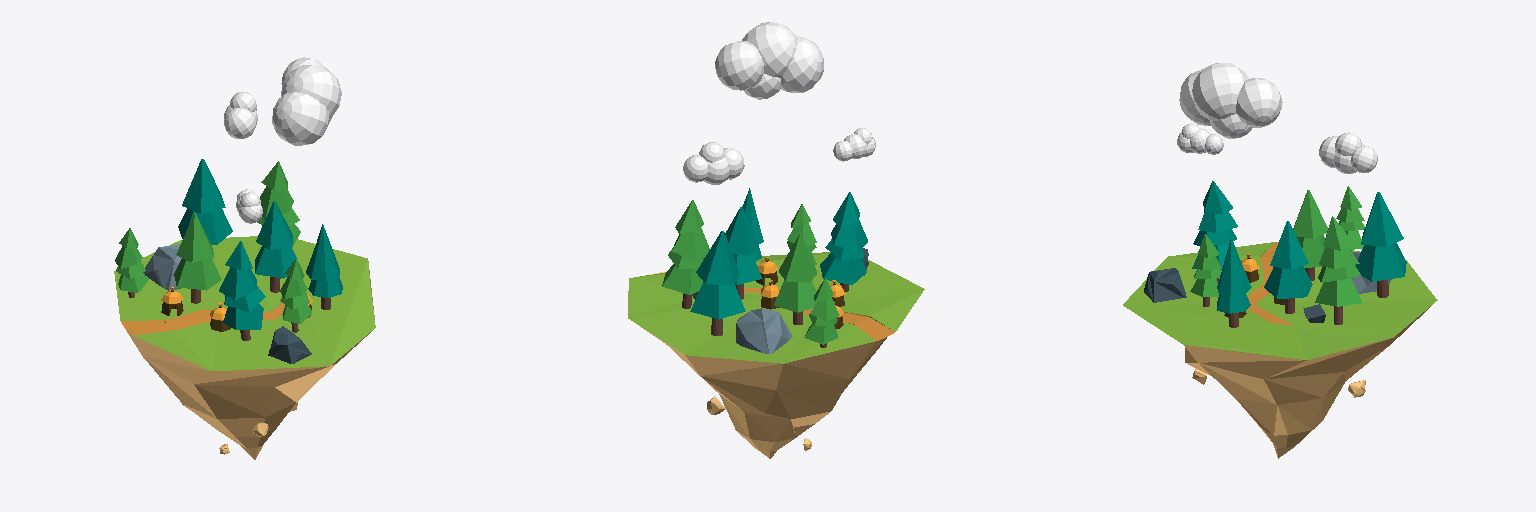
3 views of the same model, side by side, from view 1: azimuth 30°, elevation 25°; view 2: azimuth 150°, elevation 25°; view 3: azimuth 270°, elevation 25° (orthographic).
Visible parts, largest first — view 1: group[number redacted], group[number redacted], group[number redacted], group[number redacted], group[number redacted], group[number redacted], group[number redacted], group[number redacted], group[number redacted], group[number redacted], group[number redacted], group[number redacted] (+2 smaller); view 2: group[number redacted], group[number redacted], group[number redacted], group[number redacted], group[number redacted], group[number redacted], group[number redacted], group[number redacted], group[number redacted], group[number redacted], group[number redacted], group[number redacted] (+1 smaller); view 3: group[number redacted], group[number redacted], group[number redacted], group[number redacted], group[number redacted], group[number redacted], group[number redacted], group[number redacted], group[number redacted], group[number redacted], group[number redacted], group[number redacted] (+1 smaller).
Boxes of the visible parts, box(x1,y1,x2,y2) form: group[number redacted]: box(114, 236, 375, 459); group[number redacted]: box(272, 57, 341, 145); group[number redacted]: box(219, 241, 265, 340); group[number redacted]: box(178, 159, 232, 244); group[number redacted]: box(174, 213, 221, 303); group[number redacted]: box(255, 201, 296, 292); group[number redacted]: box(306, 224, 342, 309); group[number redacted]: box(257, 161, 300, 247); group[number redacted]: box(280, 259, 312, 332); group[number redacted]: box(115, 228, 148, 297); group[number redacted]: box(224, 92, 257, 138); group[number redacted]: box(143, 244, 181, 290); group[number redacted]: box(628, 252, 924, 458); group[number redacted]: box(715, 22, 823, 99); group[number redacted]: box(690, 231, 745, 335); group[number redacted]: box(820, 192, 867, 291); group[number redacted]: box(662, 200, 709, 308); group[number redacted]: box(774, 234, 816, 324); group[number redacted]: box(736, 308, 792, 353); group[number redacted]: box(683, 142, 744, 184); group[number redacted]: box(725, 207, 762, 299); group[number redacted]: box(804, 278, 839, 347); group[number redacted]: box(833, 128, 875, 161); group[number redacted]: box(787, 204, 816, 265); group[number redacted]: box(1123, 242, 1437, 458); group[number redacted]: box(1179, 63, 1282, 138); group[number redacted]: box(1355, 192, 1406, 297); group[number redacted]: box(1315, 216, 1362, 324); group[number redacted]: box(1264, 221, 1312, 313); group[number redacted]: box(1192, 181, 1237, 282); group[number redacted]: box(1217, 237, 1251, 327); group[number redacted]: box(1319, 132, 1377, 173); group[number redacted]: box(1293, 190, 1327, 280); group[number redacted]: box(1190, 234, 1221, 306); group[number redacted]: box(1144, 268, 1186, 302); group[number redacted]: box(1177, 123, 1223, 154).
Bounding box in the file's own units: 0.451 × 0.6982 × 0.4898.